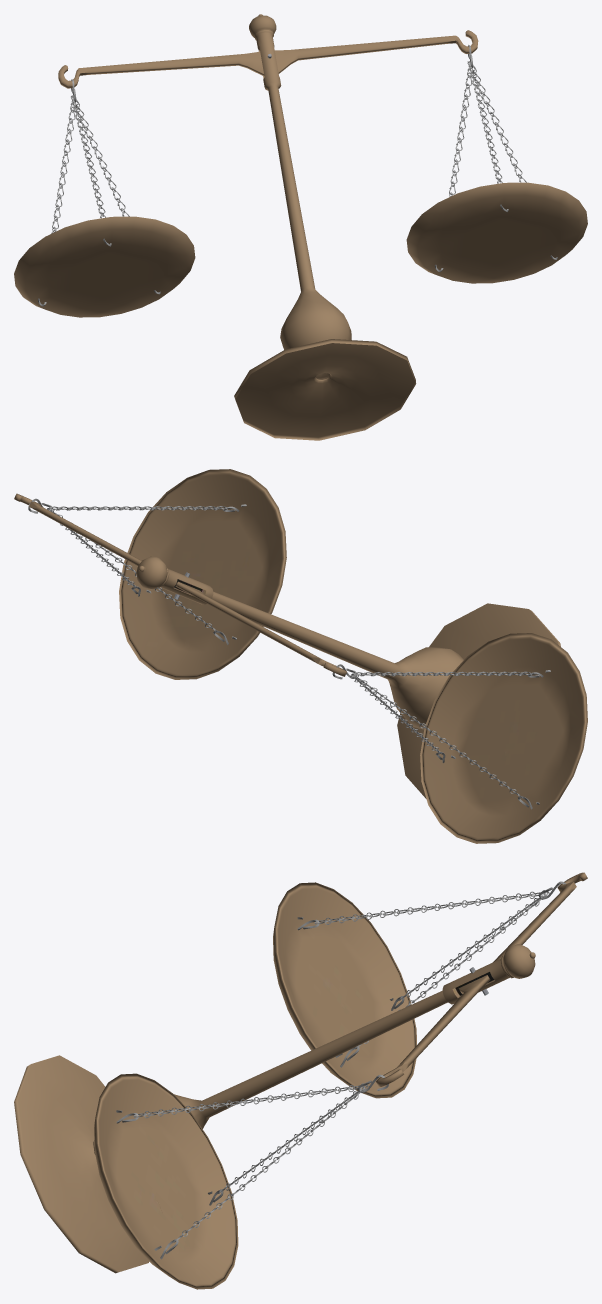
File: scales3.glb
3 views of the same model, one above another, from view 1: azimuth 30°, elevation 25°; view 2: azimuth 150°, elevation 25°; view 3: azimuth 270°, elevation 25° (orthographic). The views are drawn at different scales.
Parts seen in each view (by area): view 1: defaultMaterial.212, defaultMaterial; view 2: defaultMaterial.212, defaultMaterial; view 3: defaultMaterial.212, defaultMaterial.
Part boxes in pixels (left/top/right/bottom): defaultMaterial.212: left=14, top=14, right=587, bottom=440; defaultMaterial: left=38, top=45, right=557, bottom=306; defaultMaterial.212: left=14, top=469, right=587, bottom=843; defaultMaterial: left=28, top=498, right=550, bottom=809; defaultMaterial.212: left=14, top=872, right=587, bottom=1289; defaultMaterial: left=116, top=881, right=565, bottom=1259.
Bounding box in the file's own units: 1.88 × 1.12 × 1.55.
2 materials, 2 textured.
